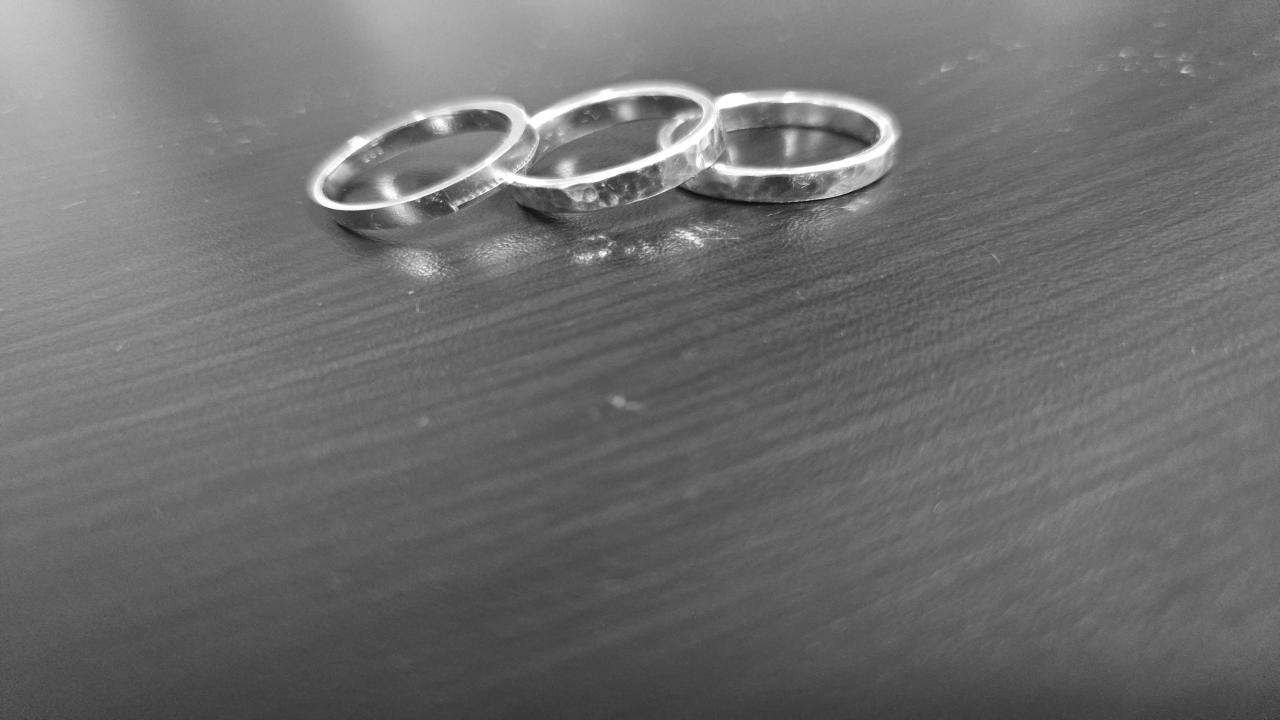ring: (309, 101, 537, 234), (499, 80, 721, 215), (677, 88, 899, 204)
